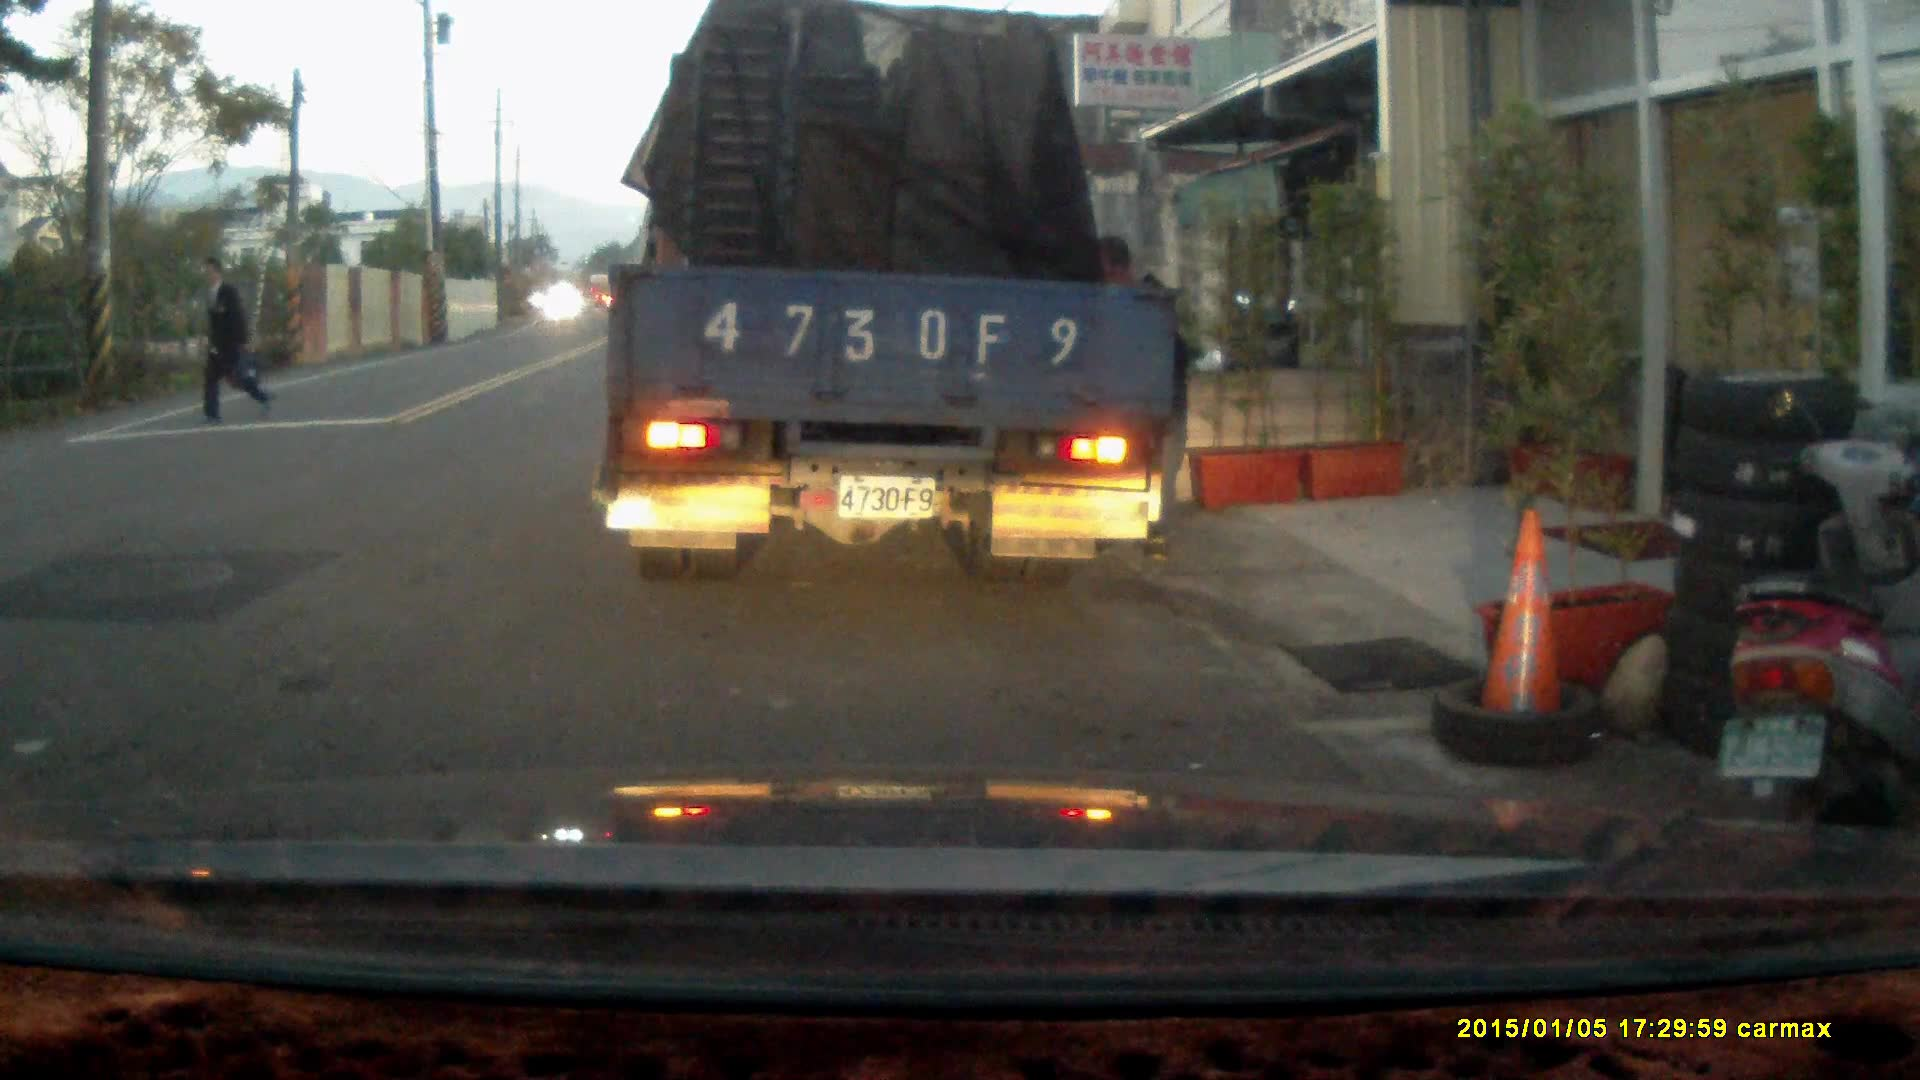pedestrian: (197, 252, 276, 429)
vehicle: (605, 23, 1188, 572)
